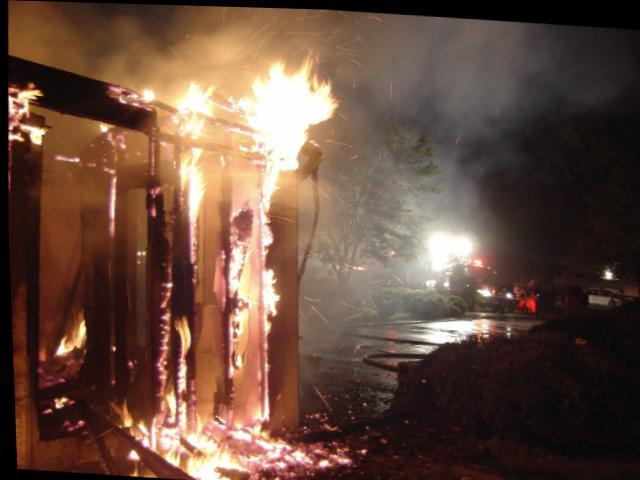fire: (0, 18, 409, 479)
